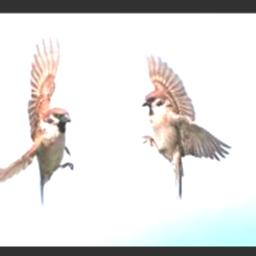Sparrow: (138, 52, 233, 202), (0, 35, 75, 206)
